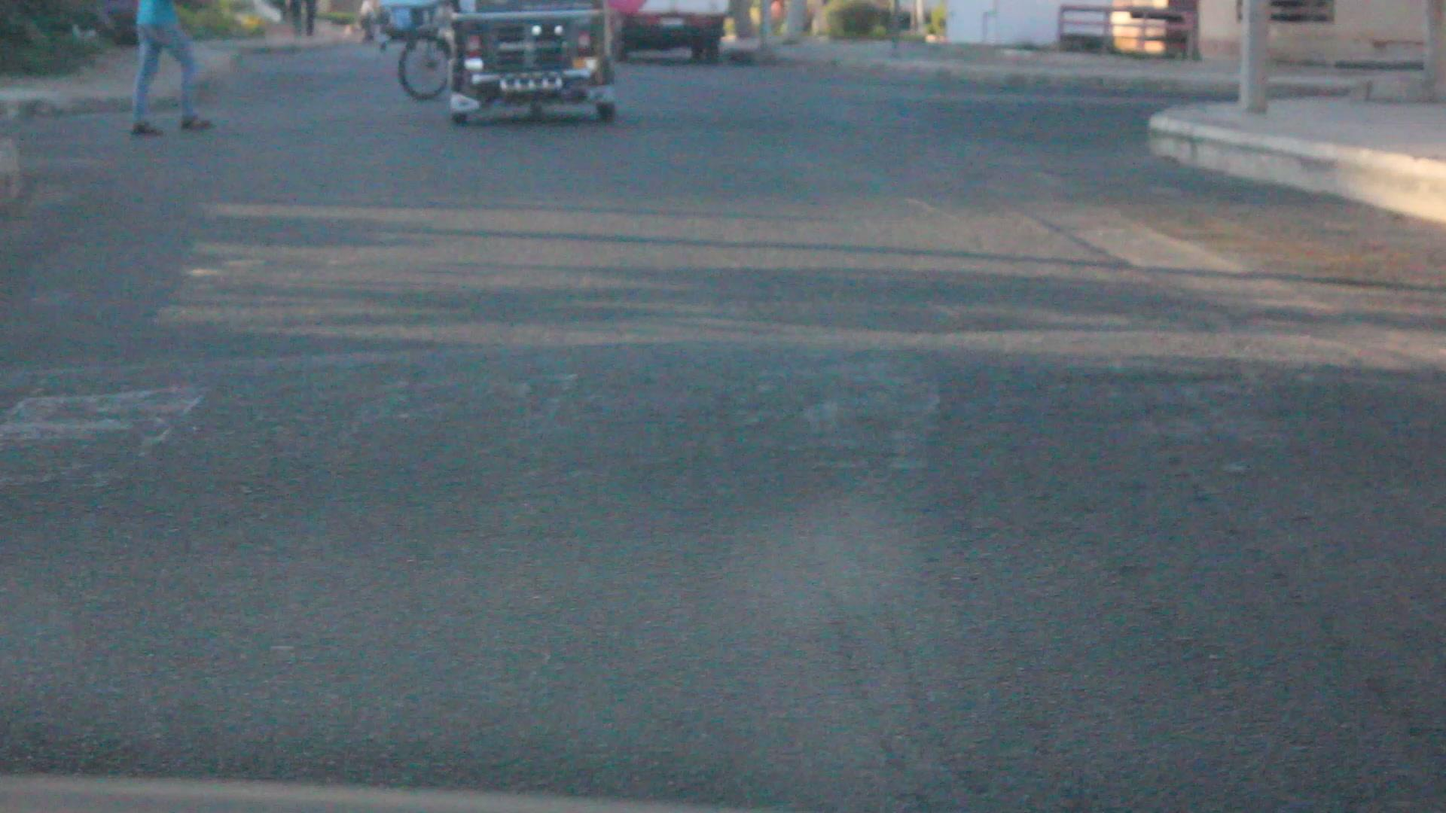Bump: (9, 375, 1446, 491)
